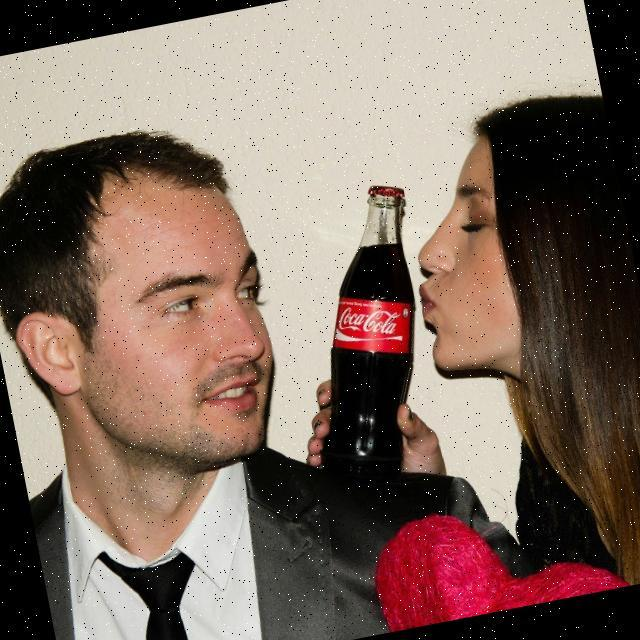coca-cola: (270, 178, 456, 491)
